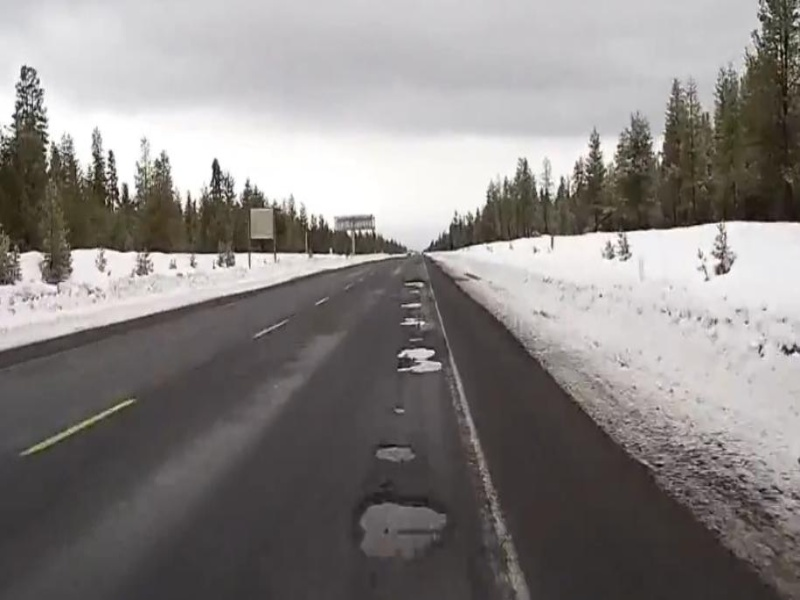pothole: (351, 490, 454, 567), (366, 440, 426, 465), (391, 342, 441, 361), (396, 359, 446, 377)
